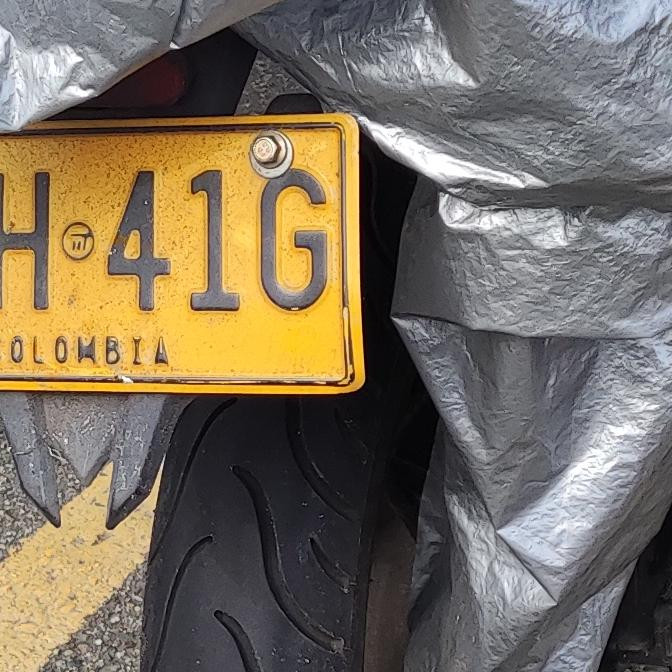plates: (0, 108, 365, 400)
